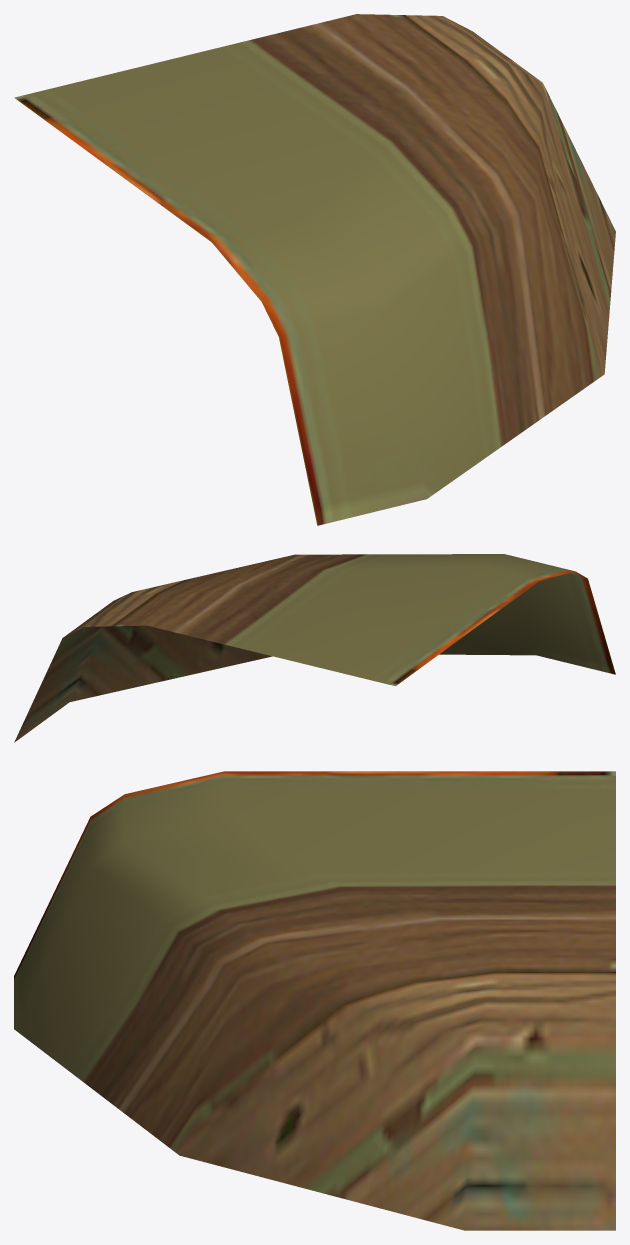
The model's file is ground03.FBX.
3 renders of one model, top to bottom at view 1: azimuth 30°, elevation 25°; view 2: azimuth 150°, elevation 25°; view 3: azimuth 270°, elevation 25°, orthographic. The views are drawn at different scales.
Parts seen in each view (by area): view 1: ground03; view 2: ground03; view 3: ground03.
Boxes of the visible parts, x1,y1,x2,y2 form: ground03: (14, 14, 615, 525); ground03: (14, 554, 615, 742); ground03: (14, 771, 615, 1230).
Size of the model in its own units: 2 by 0.75 by 2.
